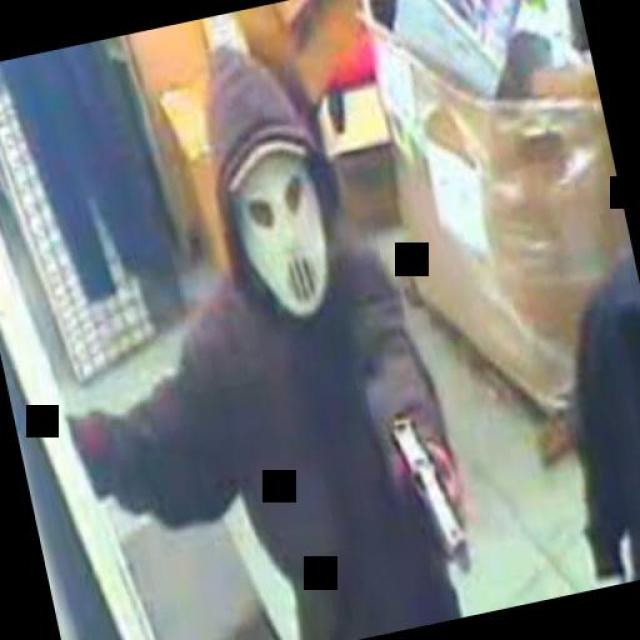gun: (369, 398, 476, 592)
